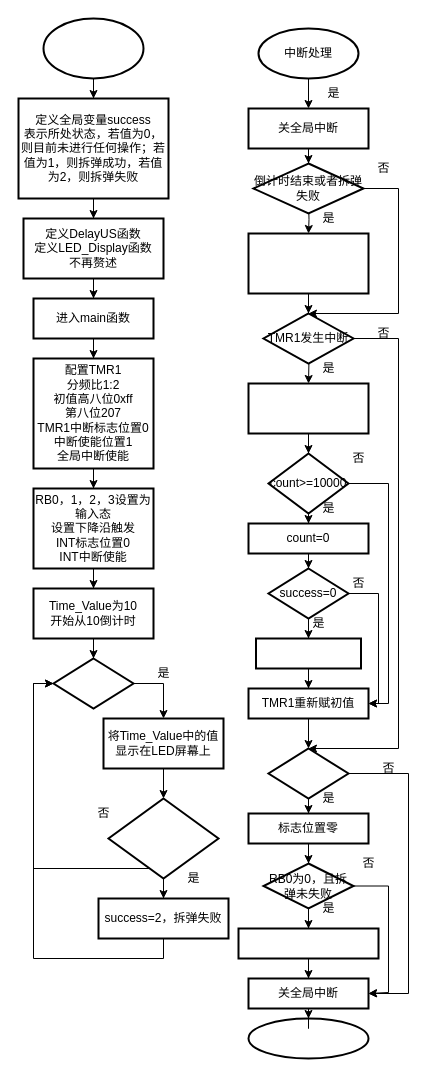
Some shapes in this 434 by 1076 pixel diagram are drawn without their labels. The shapes that lost their labels are listed below. From the top down, each one's box as (x1, y1, x2, y2) in pixels, then its label:
(42, 17, 144, 79): 开始
(247, 232, 369, 294): success=2，拆弹失败，RE0输出态，并且置0，开启蜂鸣器
(247, 382, 369, 434): 中断标志位置0 count加一
(254, 637, 362, 669): Time_Value减一
(52, 657, 134, 709): while（1）
(267, 747, 349, 799): INT发生中断
(107, 797, 219, 879): RB1，2，3中任意为0，并且不处于拆弹成功状态
(237, 927, 379, 959): success=1，拆弹成功
(247, 1017, 369, 1059): 结束中断处理
